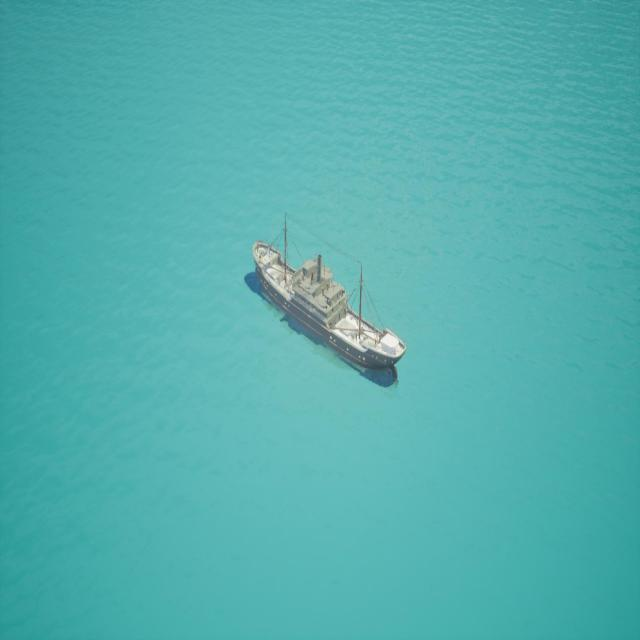fishing ship: (249, 222, 405, 387)
